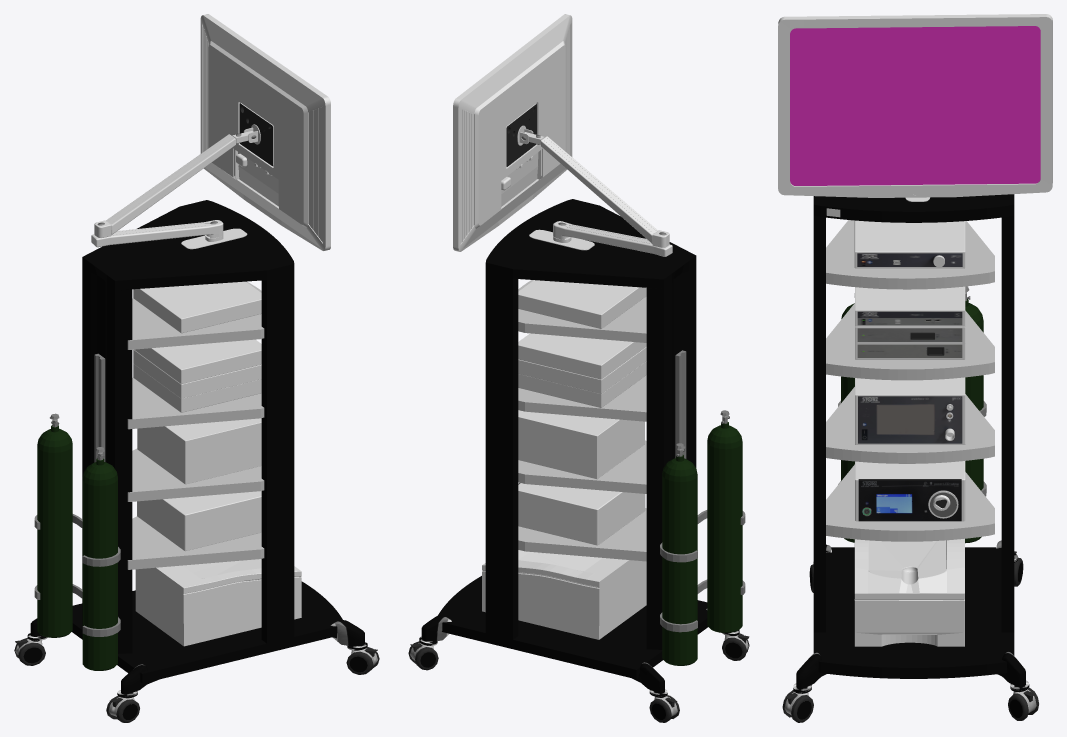
Rendered from EndoscopyTowerFile.fbx.
3 views of the same model, side by side, from view 1: azimuth 30°, elevation 25°; view 2: azimuth 150°, elevation 25°; view 3: azimuth 270°, elevation 25° (orthographic). The views are drawn at different scales.
Visible parts, largest first — view 1: Cart, BezierCurve, UI500, RubinaTL400, UP501_12x2x12.5, Shelf, TC201_12x2x12.5, Shelf.003, Shelf.001, Shelf.002, TC301_12x2x12.5, TC304_12x2x12.5; view 2: Cart, BezierCurve, UI500, RubinaTL400, UP501_12x2x12.5, TC201_12x2x12.5, Shelf, Shelf.003, Shelf.001, Shelf.002, TC301_12x2x12.5, TC304_12x2x12.5; view 3: Cart, BezierCurve, UI500, RubinaTL400, Shelf.002, Shelf.001, Shelf, UP501_12x2x12.5, Shelf.003, TC201_12x2x12.5, TC301_12x2x12.5, TC304_12x2x12.5.
Boxes of the visible parts, left/top/right/bottom form: Cart: left=14, top=14, right=379, bottom=722; BezierCurve: left=135, top=559, right=301, bottom=646; UI500: left=137, top=418, right=261, bottom=484; RubinaTL400: left=137, top=491, right=261, bottom=551; UP501_12x2x12.5: left=133, top=281, right=261, bottom=333; Shelf: left=127, top=516, right=264, bottom=569; TC201_12x2x12.5: left=134, top=339, right=261, bottom=384; Shelf.003: left=127, top=448, right=264, bottom=501; Shelf.001: left=127, top=281, right=264, bottom=349; Shelf.002: left=127, top=378, right=264, bottom=429; TC301_12x2x12.5: left=133, top=349, right=261, bottom=398; TC304_12x2x12.5: left=133, top=364, right=261, bottom=412; Cart: left=408, top=14, right=749, bottom=722; BezierCurve: left=482, top=550, right=646, bottom=639; UI500: left=518, top=410, right=644, bottom=479; RubinaTL400: left=518, top=483, right=645, bottom=545; UP501_12x2x12.5: left=518, top=280, right=646, bottom=328; TC201_12x2x12.5: left=518, top=333, right=646, bottom=379; Shelf: left=518, top=508, right=646, bottom=561; Shelf.003: left=518, top=440, right=646, bottom=493; Shelf.001: left=518, top=280, right=646, bottom=342; Shelf.002: left=518, top=375, right=646, bottom=421; TC301_12x2x12.5: left=518, top=347, right=646, bottom=393; TC304_12x2x12.5: left=518, top=361, right=646, bottom=407; Cart: left=778, top=14, right=1052, bottom=722; BezierCurve: left=854, top=538, right=964, bottom=646; UI500: left=855, top=377, right=965, bottom=444; RubinaTL400: left=855, top=461, right=965, bottom=521; Shelf.002: left=826, top=303, right=994, bottom=380; Shelf.001: left=826, top=220, right=994, bottom=289; Shelf: left=826, top=464, right=994, bottom=541; UP501_12x2x12.5: left=854, top=220, right=965, bottom=268; Shelf.003: left=826, top=387, right=994, bottom=463; TC201_12x2x12.5: left=855, top=286, right=965, bottom=326; TC301_12x2x12.5: left=855, top=326, right=965, bottom=343; TC304_12x2x12.5: left=855, top=343, right=965, bottom=359.
Size of the model in its own units: 97.97 by 206 by 75.76.
